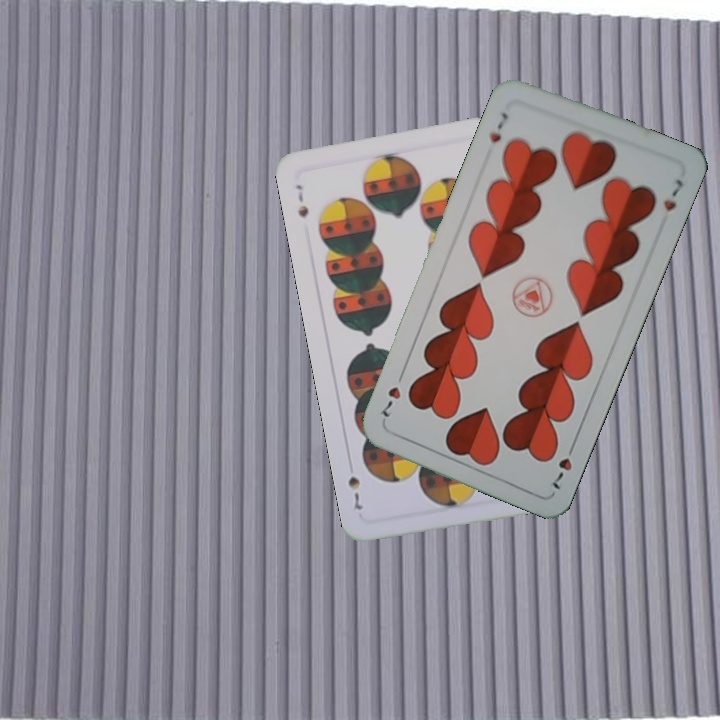H7: (548, 438, 579, 492), (484, 108, 511, 145)
S7: (291, 180, 311, 221)
